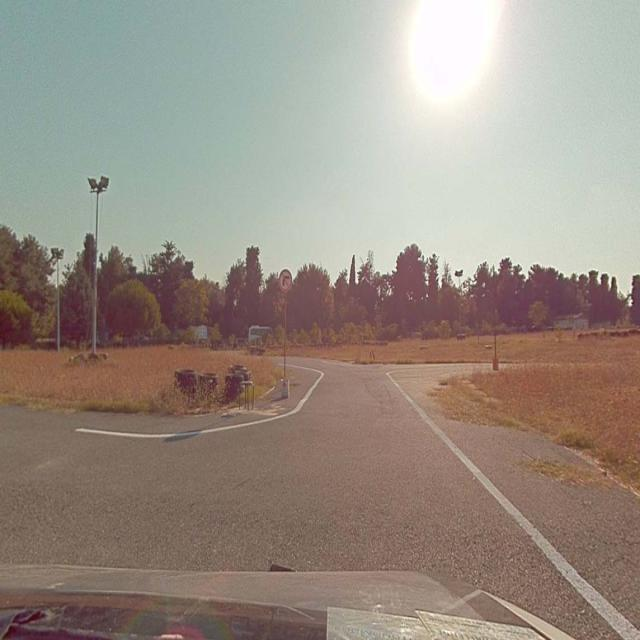sagadonulmez: (278, 269, 293, 290)
